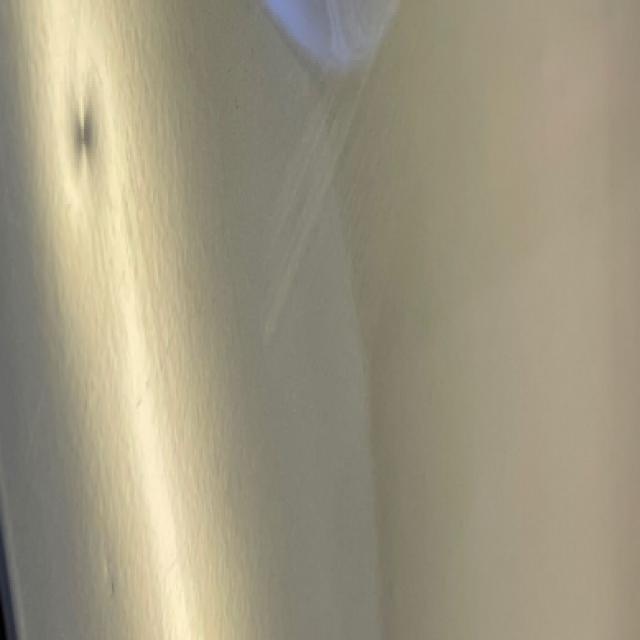dents: (53, 76, 101, 234)
